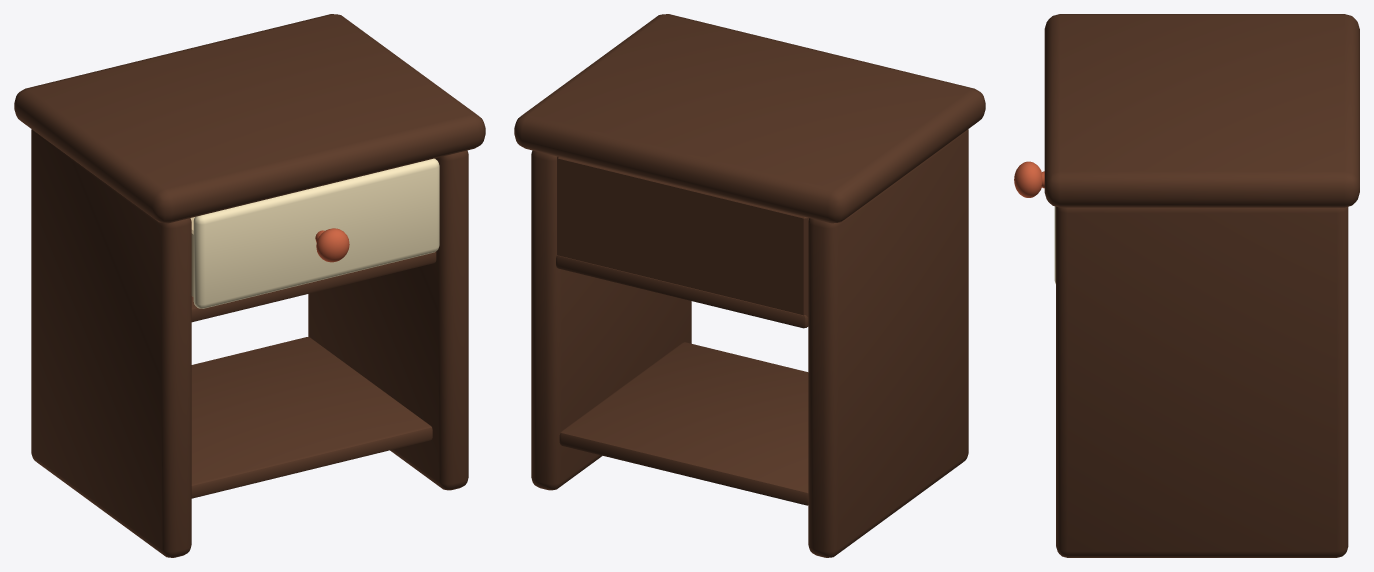
The model's file is criado_painel_nogueira.glb.
3 views of the same model, side by side, from view 1: azimuth 30°, elevation 25°; view 2: azimuth 150°, elevation 25°; view 3: azimuth 270°, elevation 25° (orthographic). The views are drawn at different scales.
Parts seen in each view (by area): view 1: criado_painel_nogueira, gaveta_1; view 2: criado_painel_nogueira; view 3: criado_painel_nogueira, gaveta_1.
Boxes of the visible parts, x1,y1,x2,y2 form: criado_painel_nogueira: (14,14,485,557); gaveta_1: (190,158,439,308); criado_painel_nogueira: (514,14,985,557); criado_painel_nogueira: (1044,14,1359,557); gaveta_1: (1014,161,1055,283).
Size of the model in its own units: 0.52 by 0.56 by 0.4496.
Materials: 1 (1 with a texture image).
